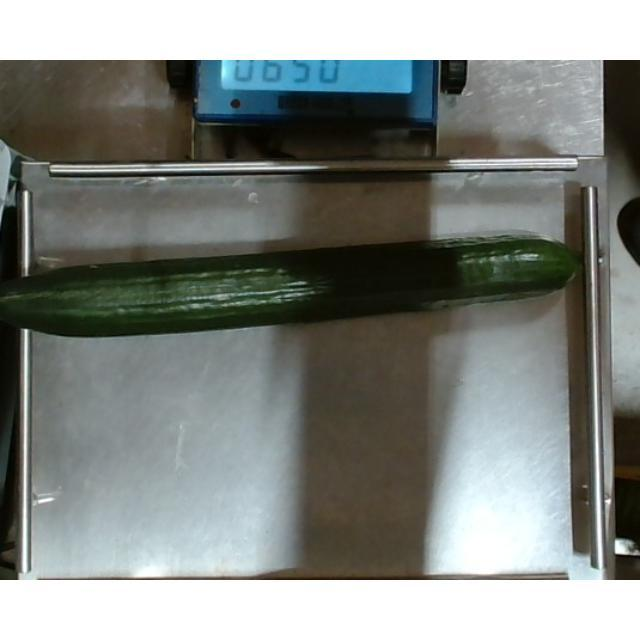cucumber: (2, 235, 604, 342)
